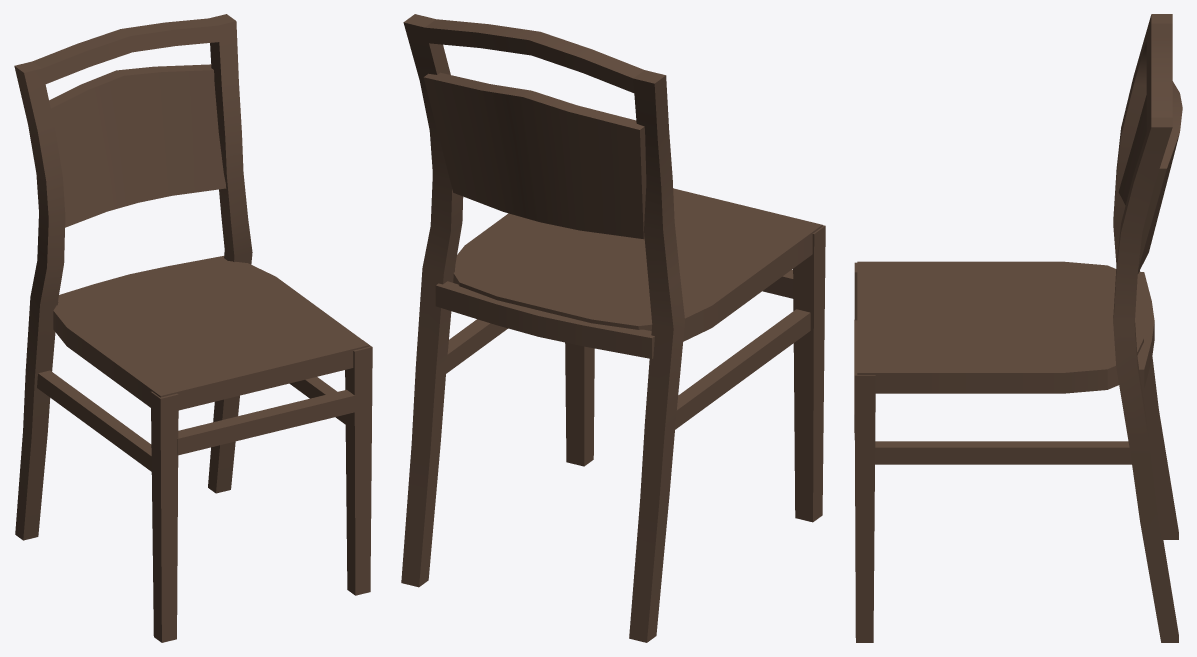
The model's file is Chair_kitchen_type2.FBX.
The picture shows the model from 3 angles, left to right: view 1: azimuth 30°, elevation 25°; view 2: azimuth 150°, elevation 25°; view 3: azimuth 270°, elevation 25°; orthographic projection. The views are drawn at different scales.
Visible parts, largest first — view 1: Chair_kitchen_type2_01; view 2: Chair_kitchen_type2_01; view 3: Chair_kitchen_type2_01.
Boxes of the visible parts, x1=… form: Chair_kitchen_type2_01: x1=14, y1=14, x2=372, y2=642; Chair_kitchen_type2_01: x1=401, y1=14, x2=825, y2=642; Chair_kitchen_type2_01: x1=854, y1=14, x2=1182, y2=642.
Size of the model in its own units: 109 by 235 by 133.
